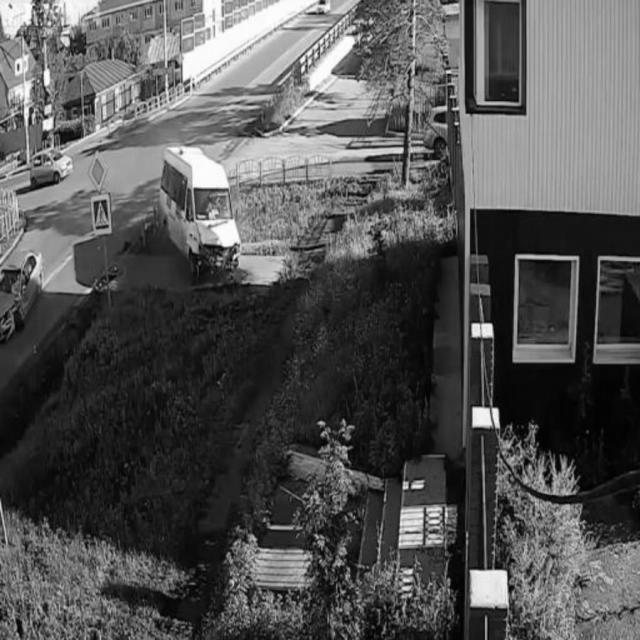vehicle: (157, 145, 241, 275), (0, 242, 40, 344), (27, 148, 78, 184), (314, 1, 332, 17)
